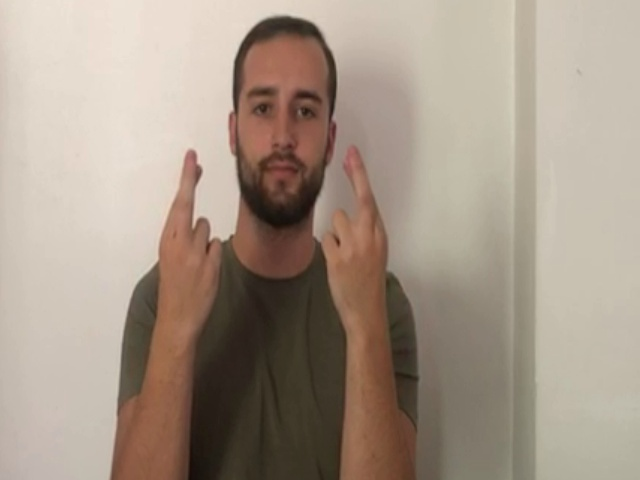Nadevanja: (148, 140, 403, 349)
